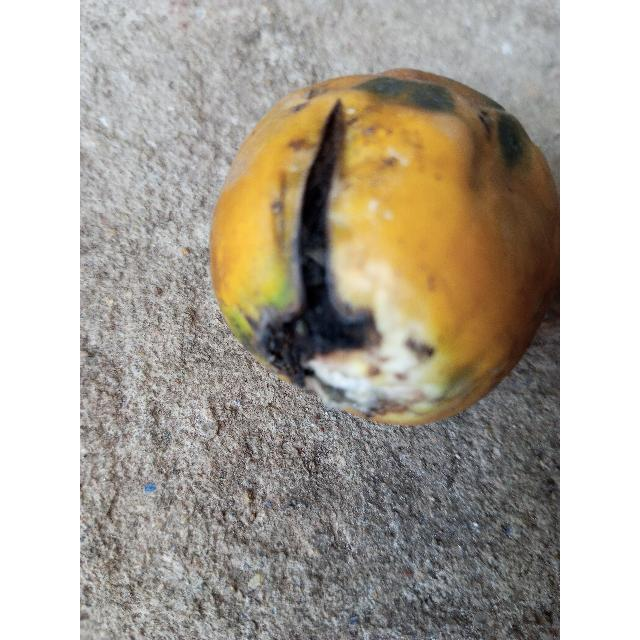damaged: (210, 69, 559, 425)
